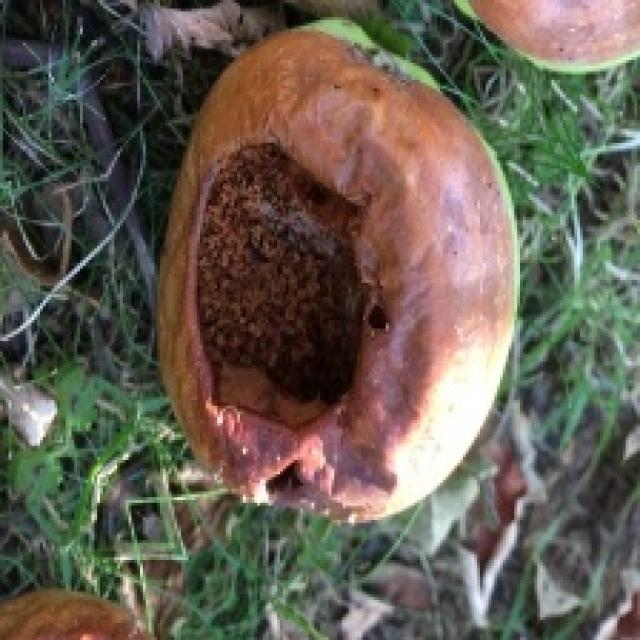rotten_apple: (166, 35, 513, 518)
